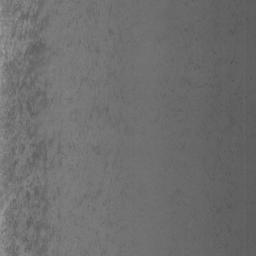Silk spot: (0, 0, 134, 256), (220, 86, 247, 130), (104, 29, 129, 64), (229, 0, 248, 35), (67, 36, 100, 54), (208, 193, 232, 216), (114, 88, 130, 104)
